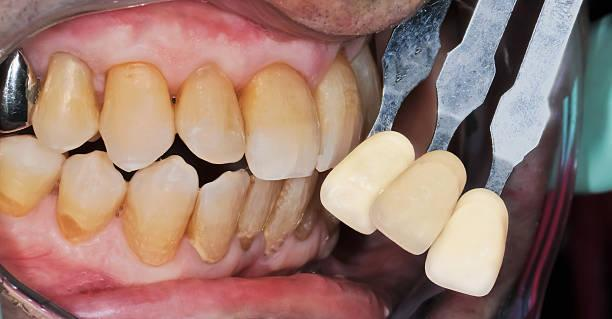Calculus: (115, 152, 197, 260), (178, 57, 250, 166), (95, 67, 177, 157), (27, 56, 104, 148), (54, 152, 126, 244), (192, 166, 253, 261), (0, 130, 63, 211), (237, 178, 284, 248)
